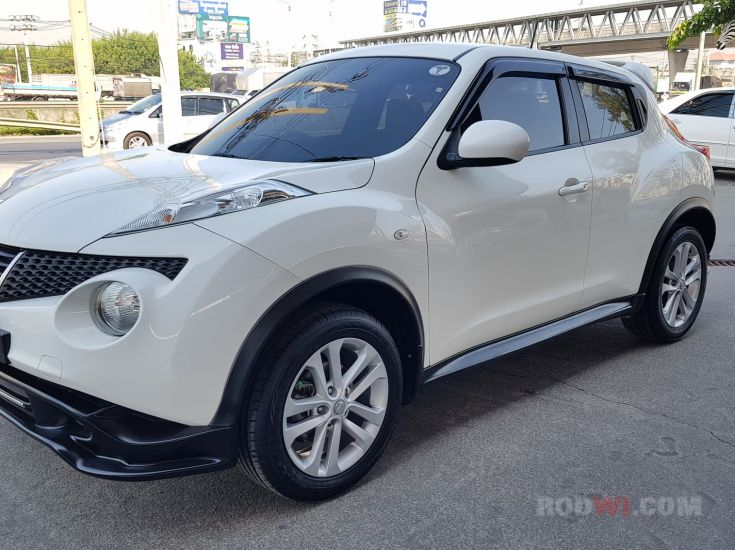sedan: (3, 42, 716, 500)
